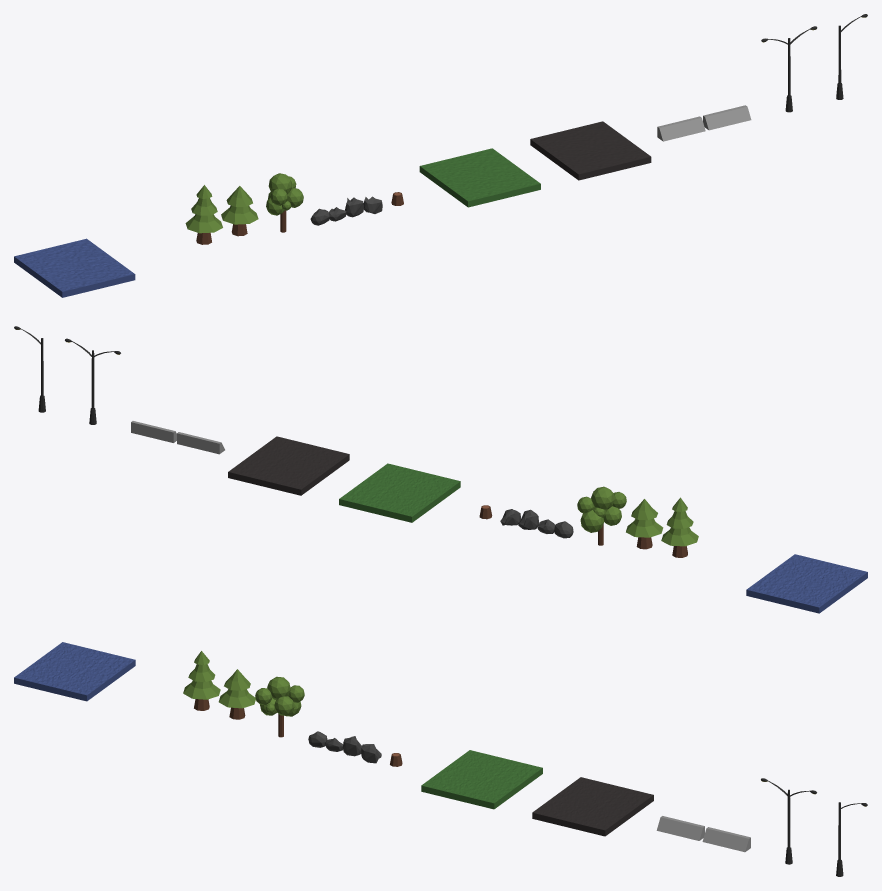
Rendered from Environment .fbx.
3 views of the same model, one above another, from view 1: azimuth 30°, elevation 25°; view 2: azimuth 150°, elevation 25°; view 3: azimuth 330°, elevation 25° (orthographic).
Visible parts, largest first — view 1: Cube.002, Cube, Cube.001, Cylinder, Icosphere.002, Cylinder.001, Cube.003, Cube.004; view 2: Cube.001, Cube.002, Cube, Icosphere.002, Cylinder, Cylinder.001, Cube.003, Cube.004; view 3: Cube.002, Cube.001, Cube, Icosphere.002, Cylinder, Cylinder.001, Cube.004, Cube.003, Cylinder.006.
Part boxes in pixels (x1,y1,x2,y2): Cube.002: [530, 121, 651, 180]; Cube: [14, 238, 135, 297]; Cube.001: [419, 148, 540, 207]; Cylinder: [185, 185, 222, 244]; Icosphere.002: [266, 173, 303, 215]; Cylinder.001: [221, 186, 258, 236]; Cube.003: [657, 116, 705, 141]; Cube.004: [703, 105, 751, 130]; Cube.001: [339, 463, 460, 522]; Cube.002: [228, 436, 349, 495]; Cube: [746, 554, 867, 613]; Icosphere.002: [577, 486, 626, 532]; Cylinder: [661, 497, 698, 557]; Cylinder.001: [626, 499, 663, 549]; Cube.003: [177, 432, 224, 454]; Cube.004: [131, 421, 176, 442]; Cube.002: [532, 777, 653, 836]; Cube.001: [421, 750, 542, 809]; Cube: [14, 642, 135, 701]; Icosphere.002: [255, 676, 304, 716]; Cylinder: [183, 651, 220, 710]; Cylinder.001: [218, 669, 255, 719]; Cube.004: [702, 827, 750, 852]; Cube.003: [656, 816, 704, 840]; Cylinder.006: [761, 778, 816, 864].
Size of the model in its own units: 56886 by 5132 by 5764.
